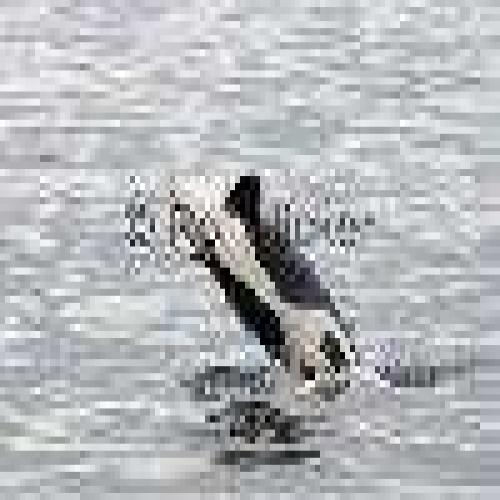killer_whale-endangered: (156, 145, 400, 426)
